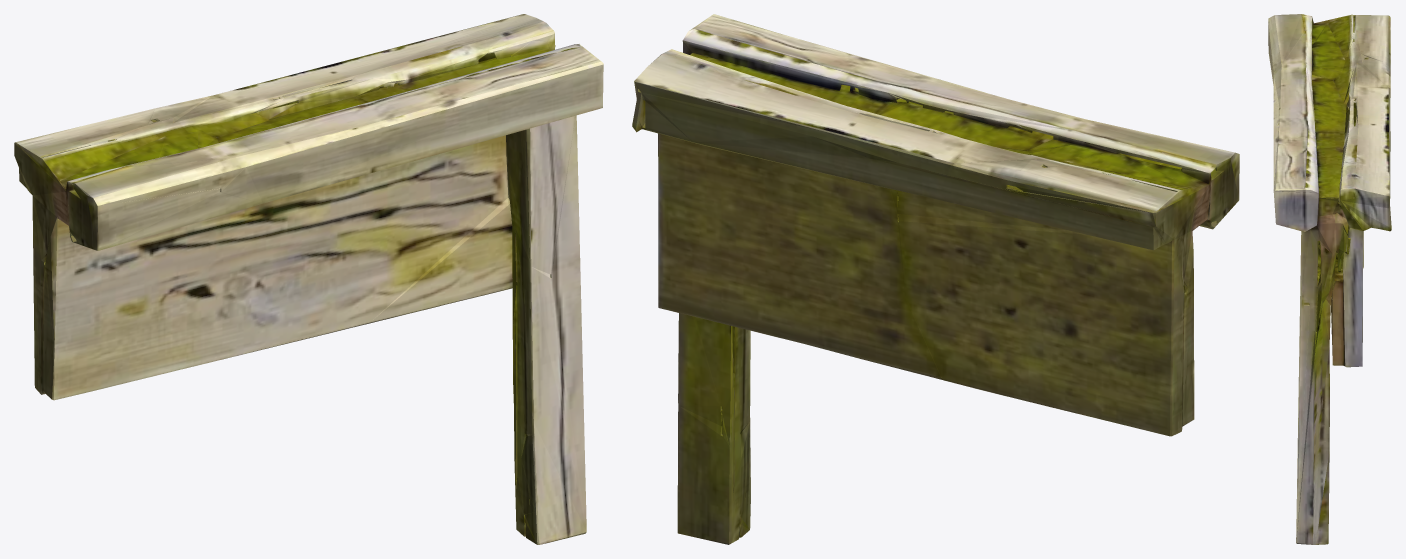
The model's file is fen_boardwalk_01.glb.
3 renders of one model, left to right at view 1: azimuth 30°, elevation 25°; view 2: azimuth 150°, elevation 25°; view 3: azimuth 270°, elevation 25°, orthographic. The views are drawn at different scales.
Parts seen in each view (by area): view 1: geometry_0; view 2: geometry_0; view 3: geometry_0.
Part boxes in pixels (x1,y1,x2,y2): geometry_0: (14,14,603,544); geometry_0: (632,14,1239,544); geometry_0: (1268,14,1391,544).
Size of the model in its own units: 0.9985 by 0.9013 by 0.2835.
Materials: 1 (1 with a texture image).
